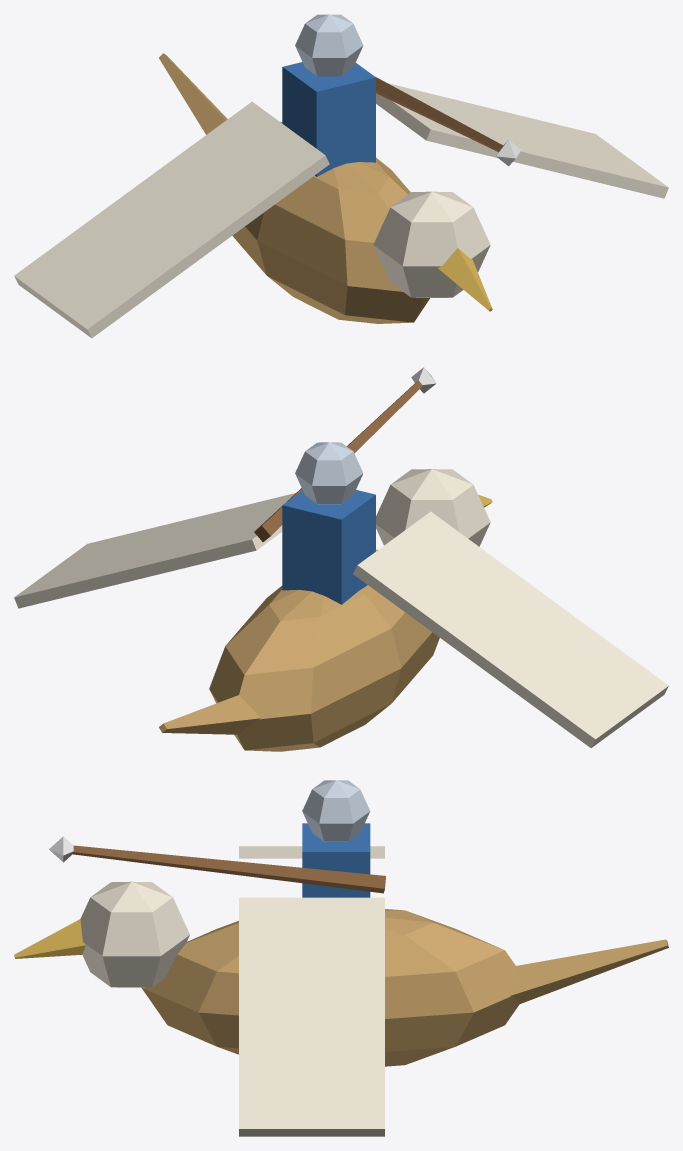
The model's file is strike_craft.fbx.
The picture shows the model from 3 angles, top to bottom: view 1: azimuth 30°, elevation 25°; view 2: azimuth 150°, elevation 25°; view 3: azimuth 270°, elevation 25°; orthographic projection.
Parts seen in each view (by area): view 1: strike_craft; view 2: strike_craft; view 3: strike_craft.
Part boxes in pixels (left/top/right/bottom): strike_craft: left=14, top=14, right=668, bottom=338; strike_craft: left=14, top=367, right=668, bottom=751; strike_craft: left=14, top=780, right=668, bottom=1136.
Bounding box in the file's own units: 1.85 × 0.864 × 1.81.
Materials: 2 (1 with a texture image).
